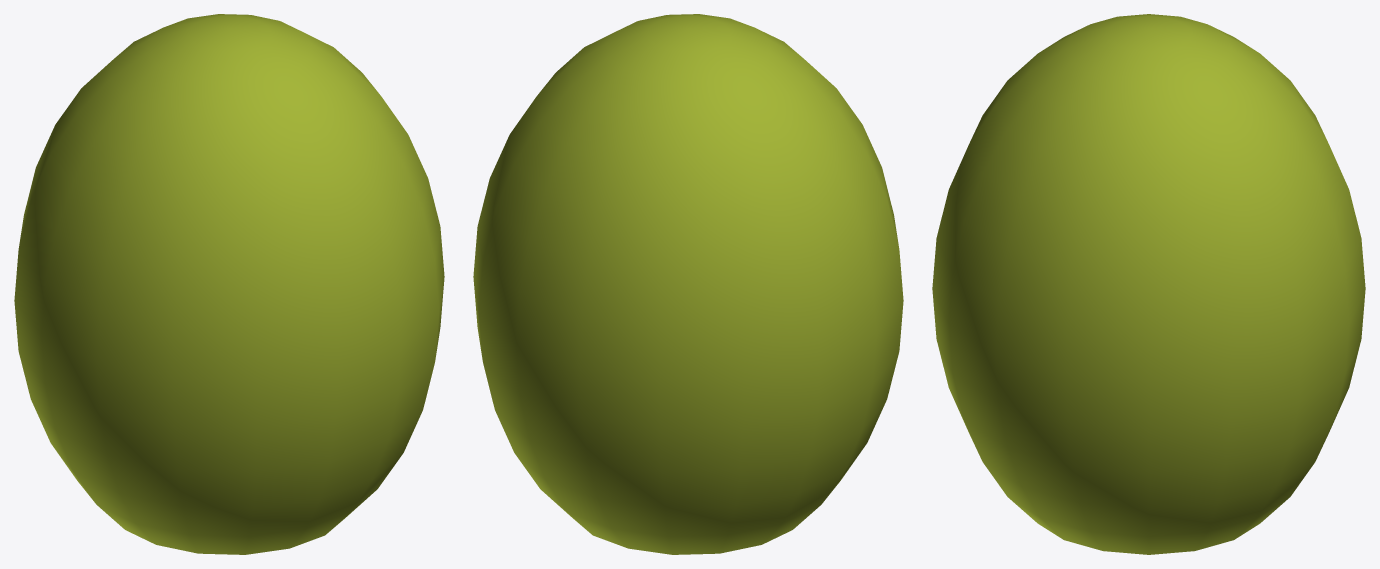
Rendered from olive.fbx.
3 views of the same model, side by side, from view 1: azimuth 30°, elevation 25°; view 2: azimuth 150°, elevation 25°; view 3: azimuth 270°, elevation 25° (orthographic).
Parts seen in each view (by area): view 1: olive; view 2: olive; view 3: olive.
Boxes of the visible parts, x1,y1,x2,y2 form: olive: (14,14,444,554); olive: (473,14,903,554); olive: (932,14,1365,554).
Size of the model in its own units: 0.1939 by 0.2419 by 0.1939.
